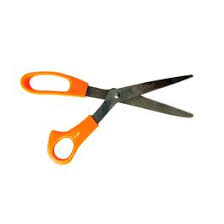tihiras: (14, 64, 201, 167)
